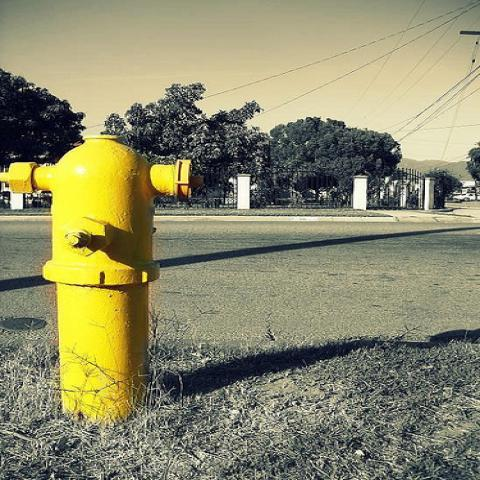car: (453, 193, 479, 203)
